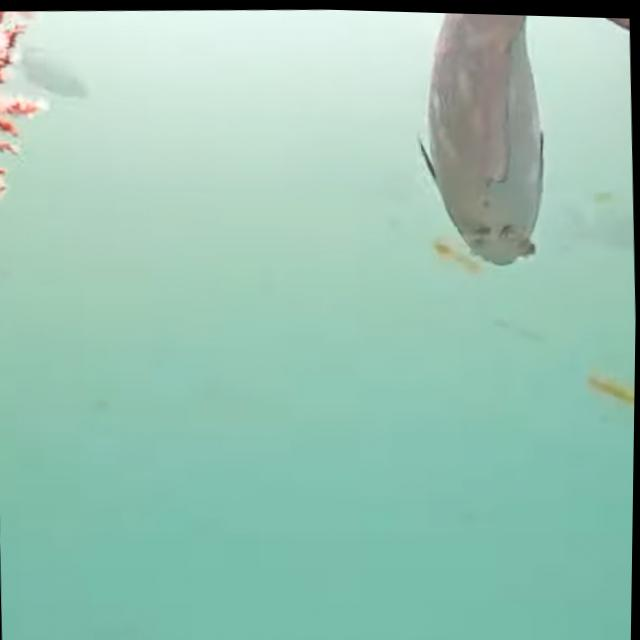fish: (404, 9, 638, 275)
